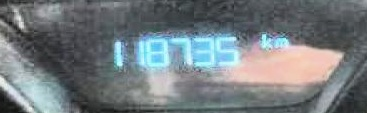1: (135, 39, 144, 64), (112, 39, 120, 65)
3: (192, 37, 213, 64)
5: (213, 35, 237, 64)
7: (169, 37, 190, 64)
8: (143, 38, 167, 65)
X: (272, 37, 287, 47), (260, 33, 270, 47)
